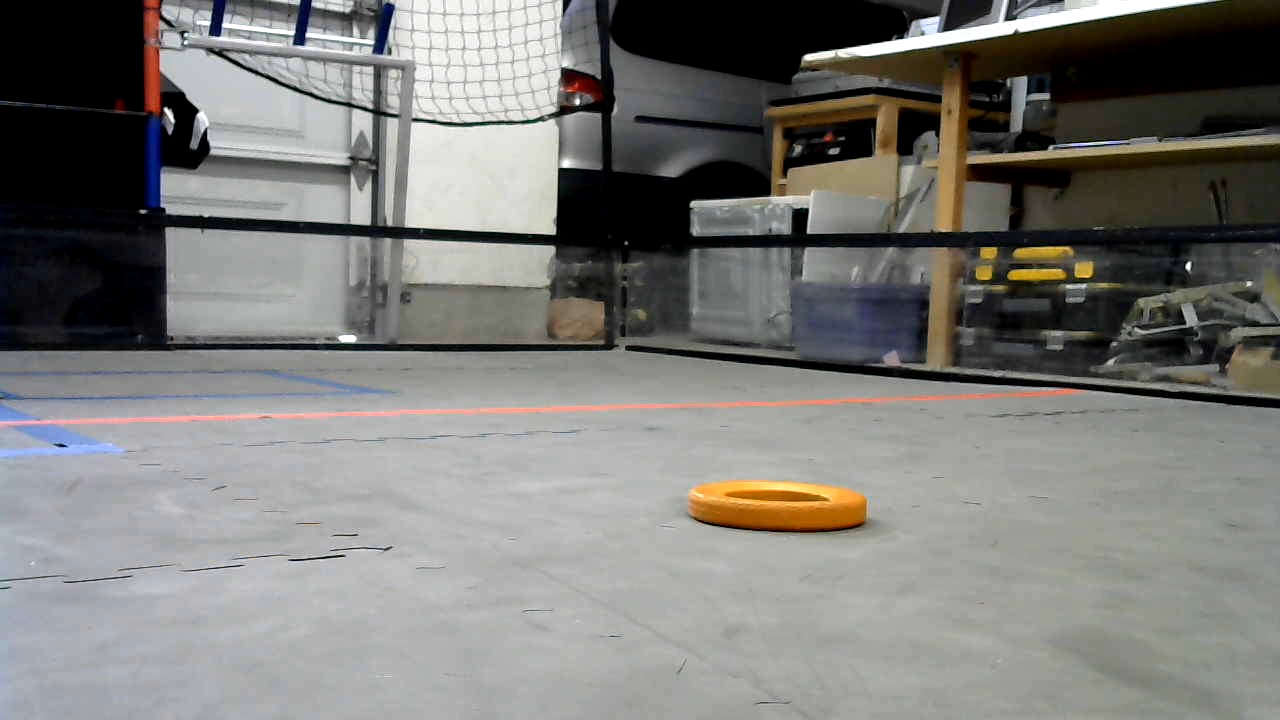OneStack: (689, 481, 869, 530)
